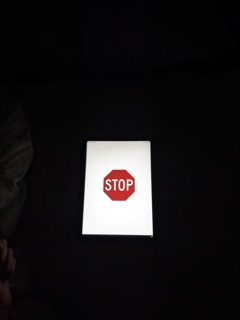STOP: (102, 168, 137, 203)
